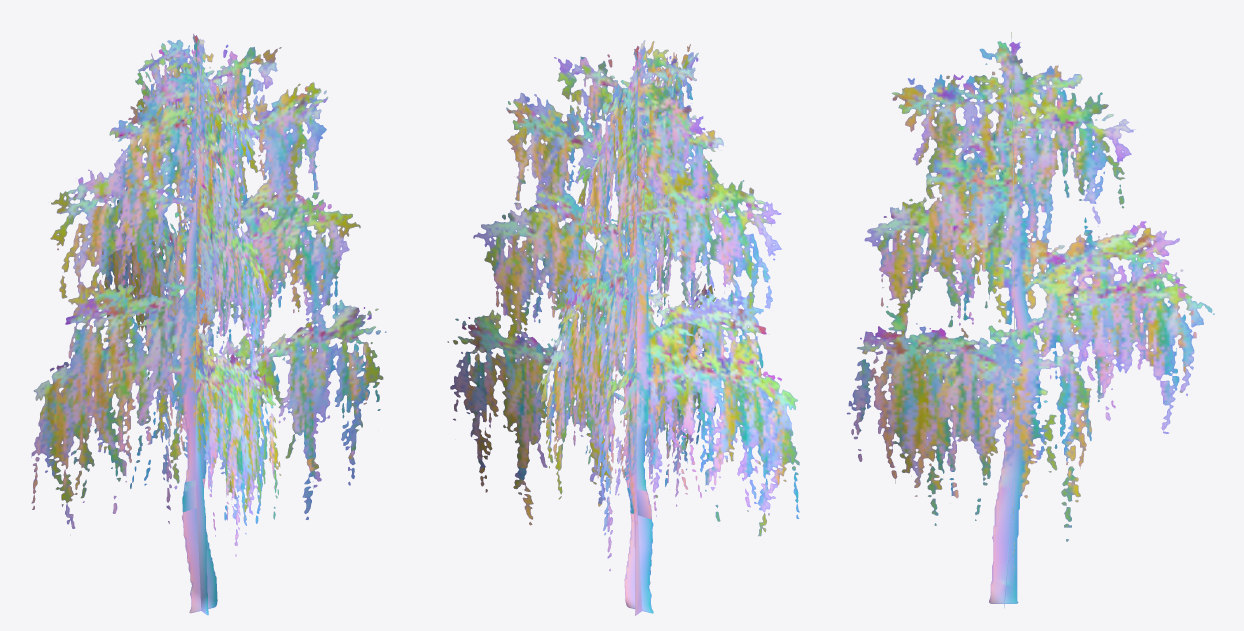
The model's file is tree_birch_01_CROSS.FBX.
3 views of the same model, side by side, from view 1: azimuth 30°, elevation 25°; view 2: azimuth 150°, elevation 25°; view 3: azimuth 270°, elevation 25° (orthographic).
Visible parts, largest first — view 1: tree_birch_01_CROSS; view 2: tree_birch_01_CROSS; view 3: tree_birch_01_CROSS.
Boxes of the visible parts, bbox=[...] form: tree_birch_01_CROSS: bbox=[31, 33, 386, 615]; tree_birch_01_CROSS: bbox=[447, 40, 799, 615]; tree_birch_01_CROSS: bbox=[846, 32, 1214, 608].
Bounding box in the file's own units: 10837 × 15489 × 9460.
